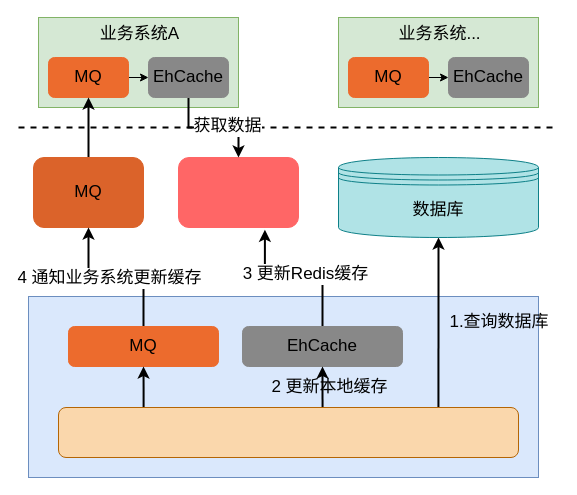
The diagram is 577 pixels wide and 495 high, and some of its shapes have lost their labels. The shapes that lost their labels are listed below. From the top down, each one's box as (x1, y1, x2, y2) in pixels, then its label:
(178, 156, 298, 228): Redis
(28, 296, 538, 478): 基础服务
(58, 406, 518, 458): CodeService
